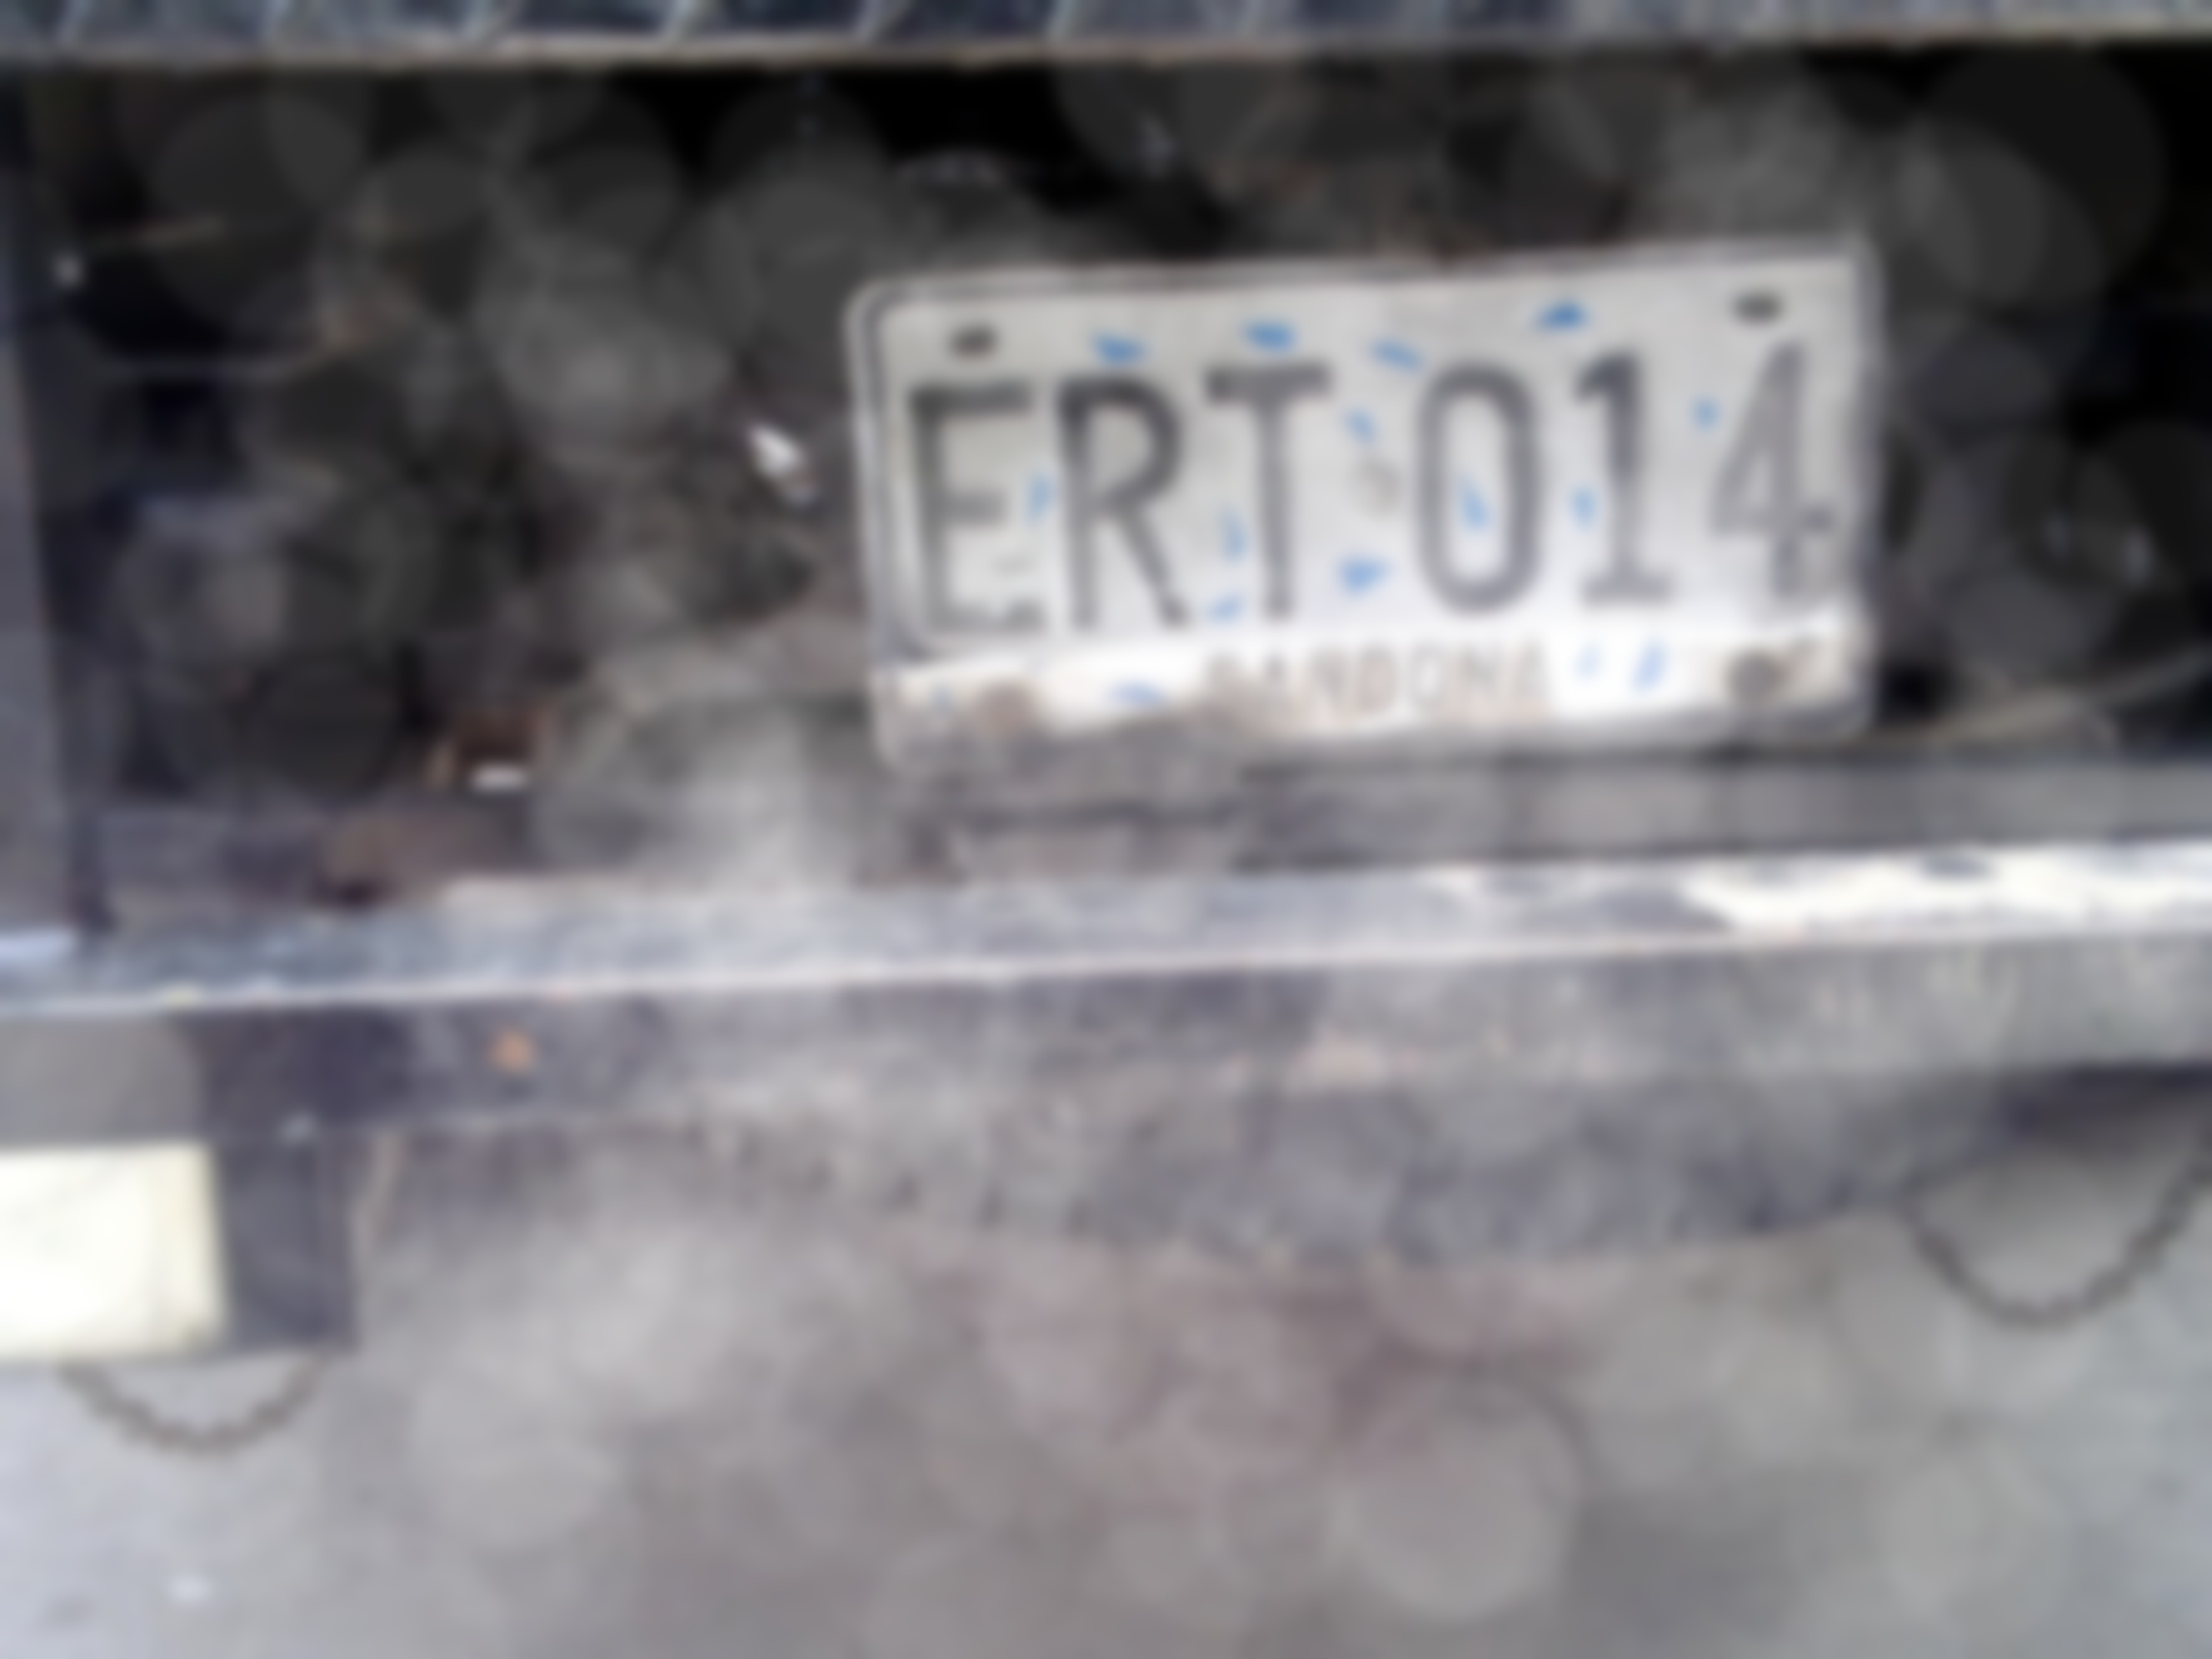placas: (834, 224, 1890, 788)
